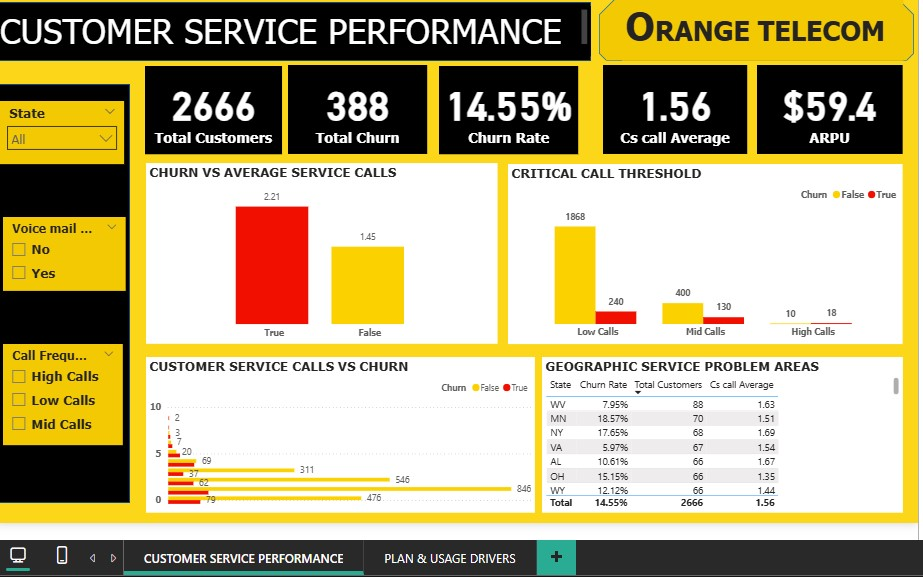

The dashboard page shown, as its layout file describes it:
{"tool":"powerbi","page":{"name":"CUSTOMER SERVICE PERFORMANCE","canvas":[1285,731],"ordinal":0},"visuals":[{"type":"shape","box":[0,4.2,829.3,82.2],"z":0},{"type":"card","fields":{"Values":["Measure.Total Customers"]},"box":[207.9,93.7,190.9,122.7],"z":1000},{"type":"textbox","box":[0,9.8,829.3,69.7],"z":2000},{"type":"card","fields":{"Values":["Measure.Churn Rate"]},"box":[616.9,93.7,194.3,122.7],"z":3000},{"type":"card","fields":{"Values":["Measure.Cs call Average"]},"box":[845.3,92,201.1,124.4],"z":4000},{"type":"card","fields":{"Values":["Measure.ARPU"]},"box":[1060,92,202.8,124.4],"z":5000},{"type":"clusteredColumnChart","title":"CRITICAL CALL THRESHOLD","fields":{"Y":["Measure.Total Customers"],"Category":["Orange Telecom's Churn.Call Frequency"],"Series":["Orange Telecom's Churn.Churn"]},"box":[713.4,230.5,550.5,251],"z":6000},{"type":"tableEx","title":"GEOGRAPHIC SERVICE PROBLEM AREAS","fields":{"Values":["Orange Telecom's Churn.State","Measure.Churn Rate","Measure.Total Customers","Measure.Cs call Average"]},"box":[760.4,499.1,503.5,217.2],"z":7000},{"type":"clusteredColumnChart","title":"CHURN VS AVERAGE SERVICE CALLS","fields":{"Category":["Orange Telecom's Churn.Churn"],"Y":["Measure.Cs call Average"]},"box":[208.4,229,490.3,252.5],"z":8000},{"type":"shape","box":[0,118.5,186.8,584],"z":9000},{"type":"clusteredBarChart","title":"CUSTOMER SERVICE CALLS VS CHURN","fields":{"Category":["Orange Telecom's Churn.Customer service calls"],"Y":["Measure.Total Customers"],"Series":["Orange Telecom's Churn.Churn"]},"box":[208.4,499.1,541.6,217.2],"z":10000},{"type":"slicer","fields":{"Values":["Orange Telecom's Churn.State"]},"box":[5.9,142.4,173.2,88.1],"z":11000},{"type":"slicer","fields":{"Values":["Orange Telecom's Churn.Voice mail plan"]},"box":[9.8,303.8,171.4,103.1],"z":12000},{"type":"card","fields":{"Values":["CountNonNull(Orange Telecom's Churn.Churn)"]},"box":[407.3,92,194.3,124.4],"z":13000},{"type":"shape","box":[840.4,0,439,86.4],"z":14000},{"type":"textbox","box":[872.5,0,391.6,86.4],"z":15000},{"type":"slicer","fields":{"Values":["Orange Telecom's Churn.Call Frequency"]},"box":[9.8,480.8,167.2,140.8],"z":16000}]}

Visuals, with their boxes on the page's 1285x731 design canvas (x1, y1, x2, y2). These are canvas units, not pixel positions in the 923x577 screenshot, which may show the page scaled, cropped or inside an application window:
shape: x1=0 y1=4 x2=829 y2=86
card - Measure.Total Customers: x1=208 y1=94 x2=399 y2=216
textbox: x1=0 y1=10 x2=829 y2=80
card - Measure.Churn Rate: x1=617 y1=94 x2=811 y2=216
card - Measure.Cs call Average: x1=845 y1=92 x2=1046 y2=216
card - Measure.ARPU: x1=1060 y1=92 x2=1263 y2=216
"CRITICAL CALL THRESHOLD" clusteredColumnChart: x1=713 y1=230 x2=1264 y2=482
"GEOGRAPHIC SERVICE PROBLEM AREAS" tableEx: x1=760 y1=499 x2=1264 y2=716
"CHURN VS AVERAGE SERVICE CALLS" clusteredColumnChart: x1=208 y1=229 x2=699 y2=482
shape: x1=0 y1=118 x2=187 y2=702
"CUSTOMER SERVICE CALLS VS CHURN" clusteredBarChart: x1=208 y1=499 x2=750 y2=716
slicer - Orange Telecom's Churn.State: x1=6 y1=142 x2=179 y2=230
slicer - Orange Telecom's Churn.Voice mail plan: x1=10 y1=304 x2=181 y2=407
card - CountNonNull(Orange Telecom's Churn.Churn): x1=407 y1=92 x2=602 y2=216
shape: x1=840 y1=0 x2=1279 y2=86
textbox: x1=872 y1=0 x2=1264 y2=86
slicer - Orange Telecom's Churn.Call Frequency: x1=10 y1=481 x2=177 y2=622
